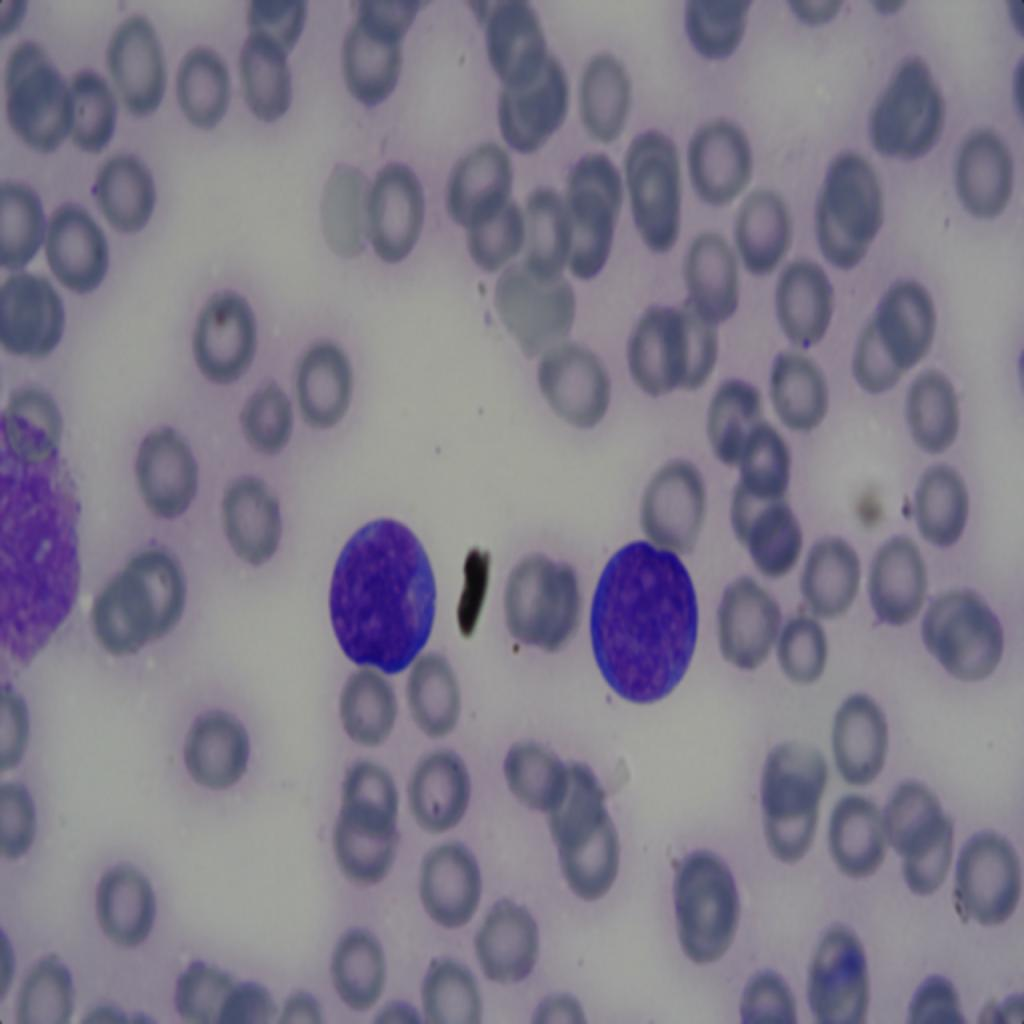Myeoblast: (584, 536, 700, 717), (325, 509, 439, 679)
